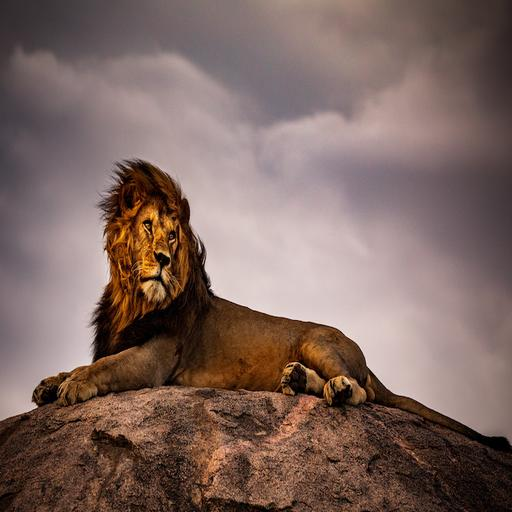Lion: (28, 146, 512, 469)
